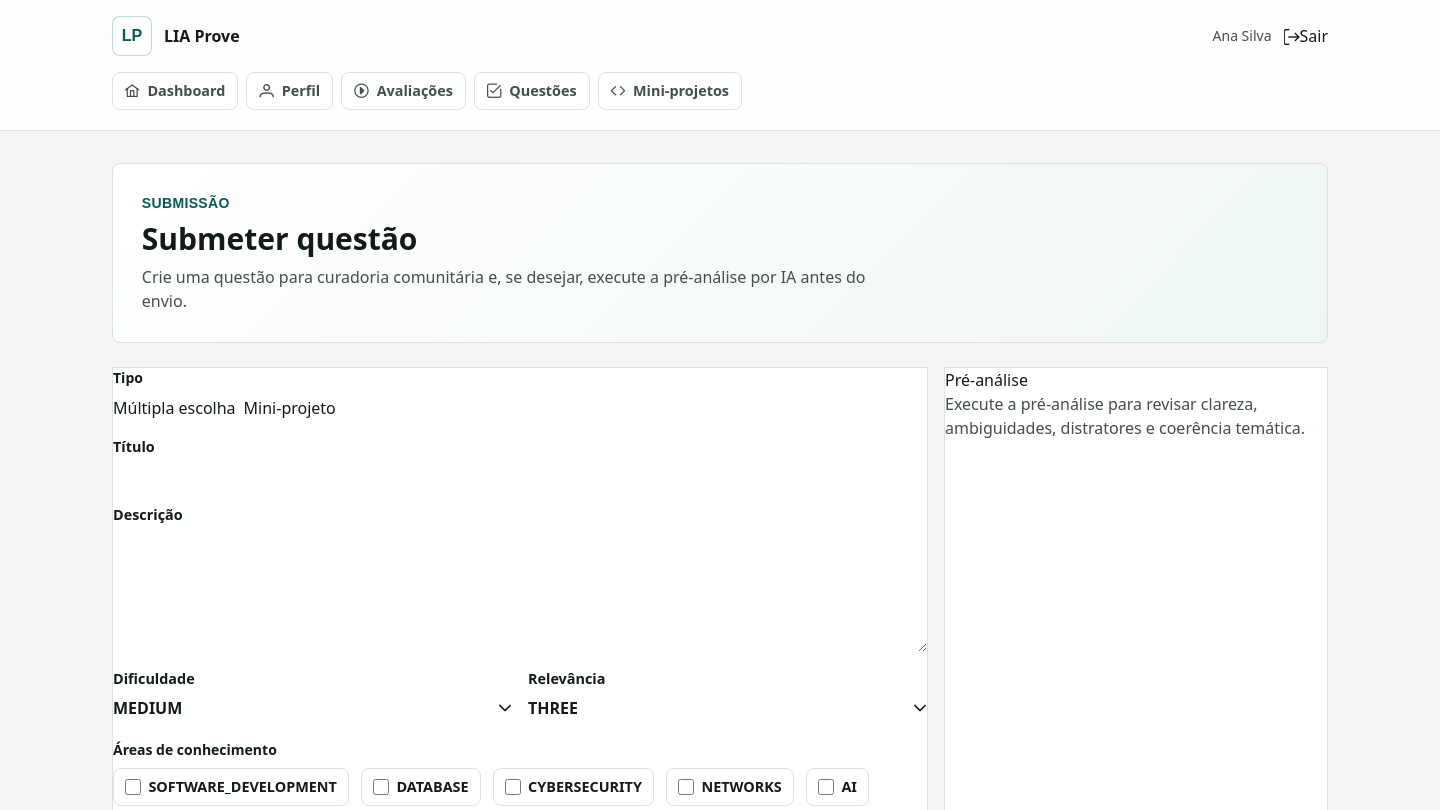
Test case: QuestionSubmissionView › validates the knowledge area before pre-analysis
This screenshot has width=1440, height=810.
Type "Mini-projeto para API REST" into the field with test id "question-title" at (520, 476), box [113, 464, 927, 488]
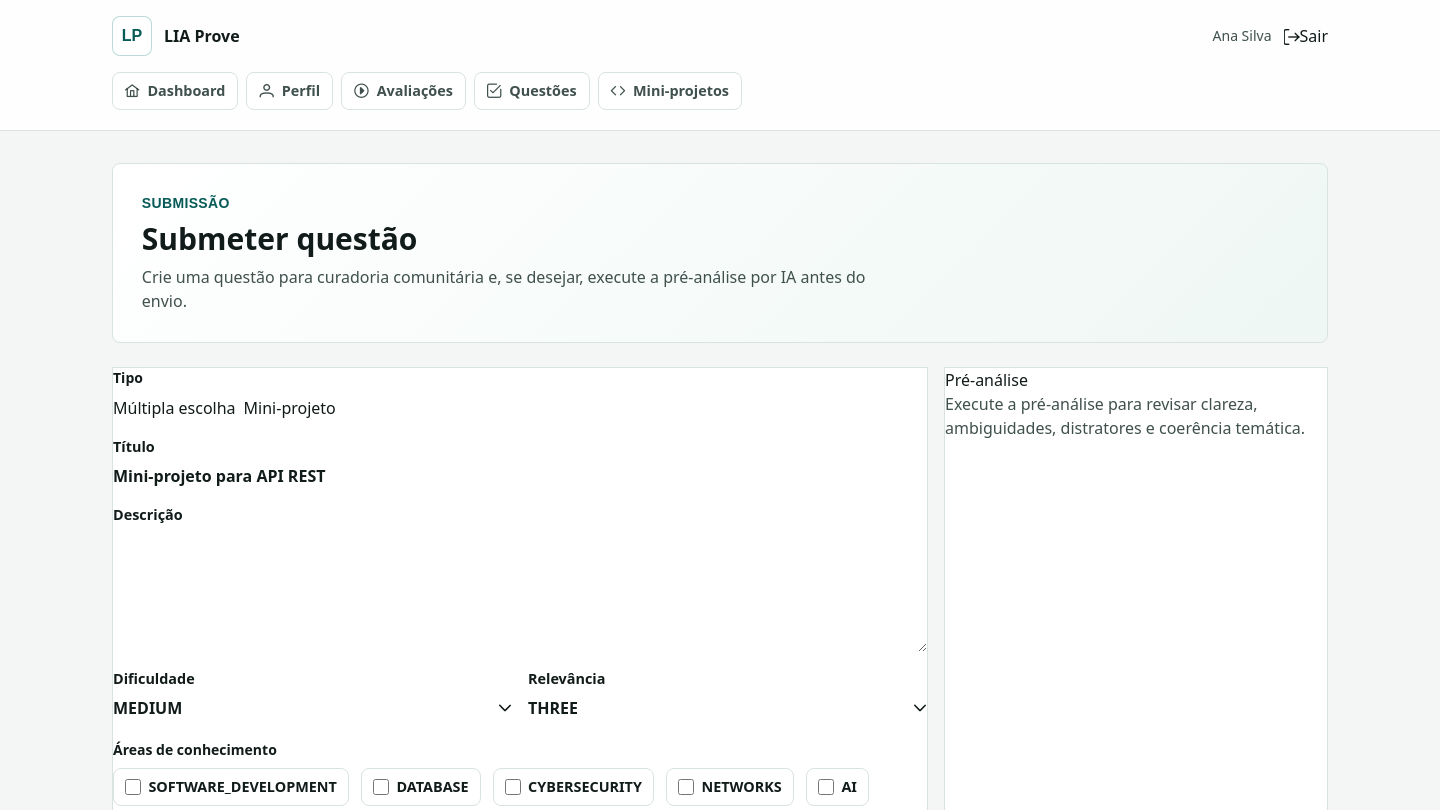
Type "Implemente uma API REST com persistencia transacional." into the text box with test id "question-description" at (520, 592), box [113, 532, 927, 652]
(page scrolled)
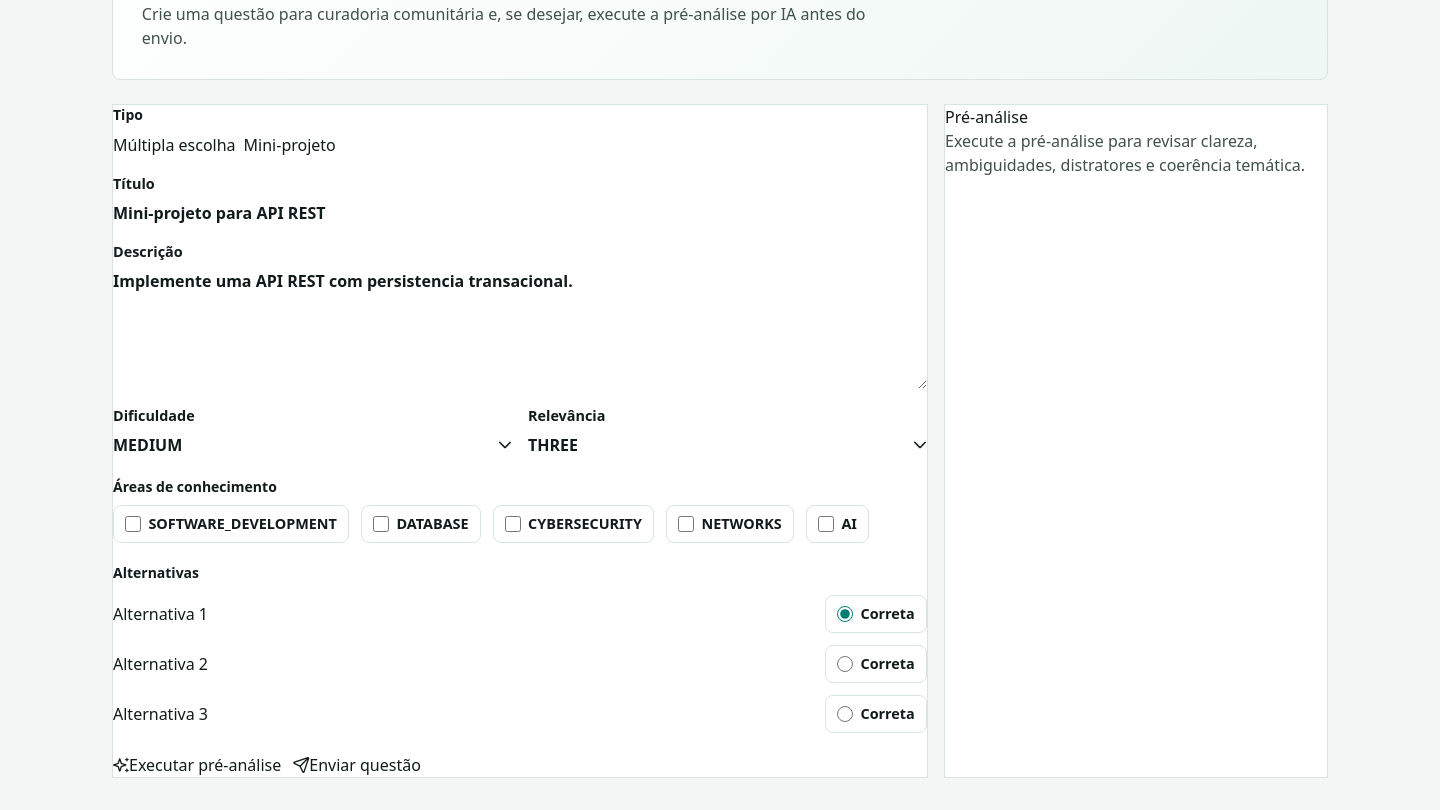
Click the button with test id "pre-analyze-question" at (197, 764), box [113, 752, 281, 776]
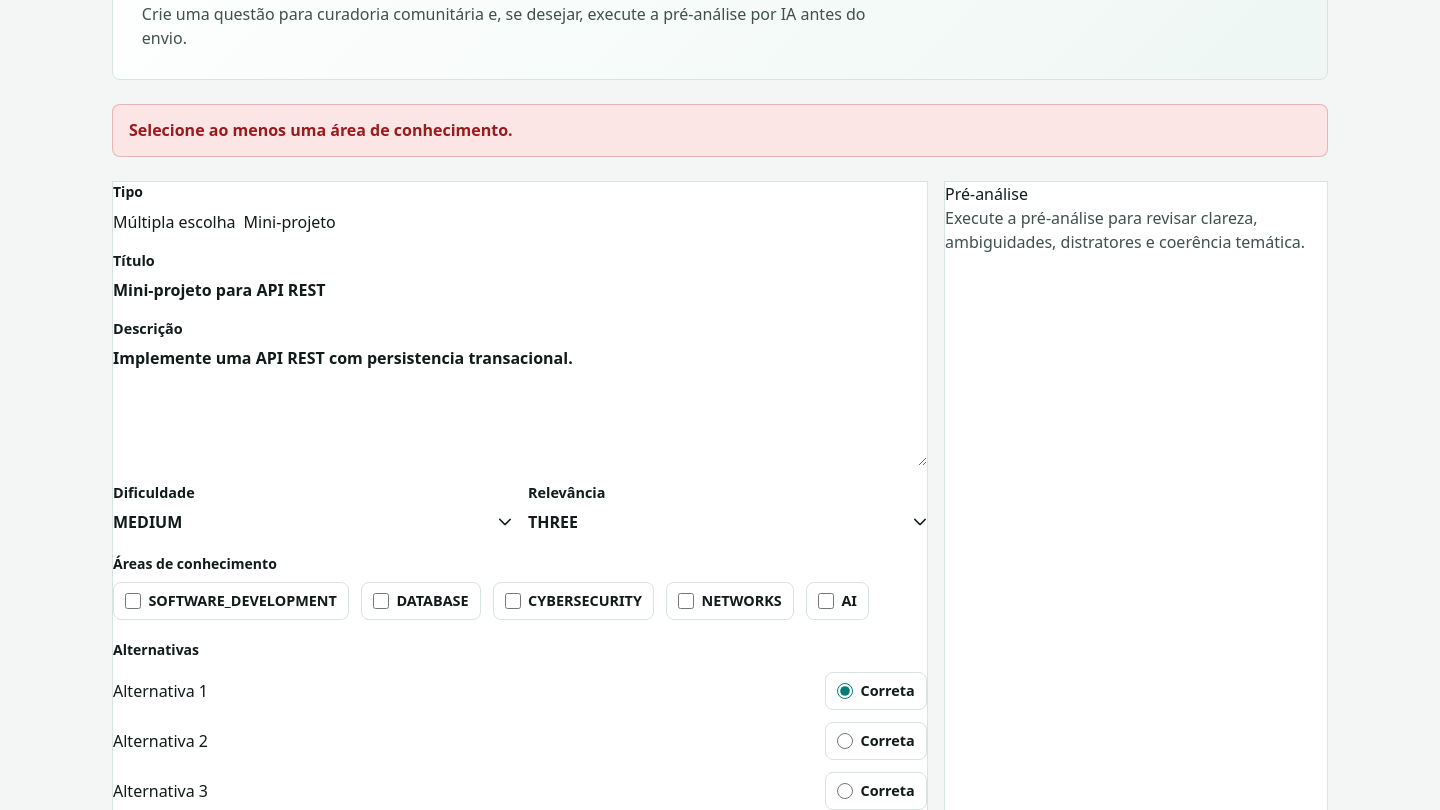
Now the text "Selecione ao menos uma área de conhecimento." is shown, box [112, 104, 1328, 157]
